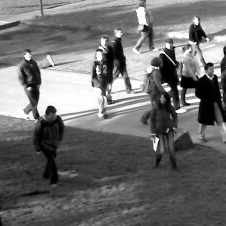person: (35, 105, 65, 187), (198, 60, 226, 146), (151, 90, 177, 166), (18, 46, 44, 119), (142, 58, 168, 128), (177, 42, 200, 109), (159, 36, 180, 107), (92, 48, 112, 119), (131, 1, 157, 52), (112, 28, 132, 93), (189, 14, 208, 71), (99, 35, 114, 103), (221, 46, 226, 124)
